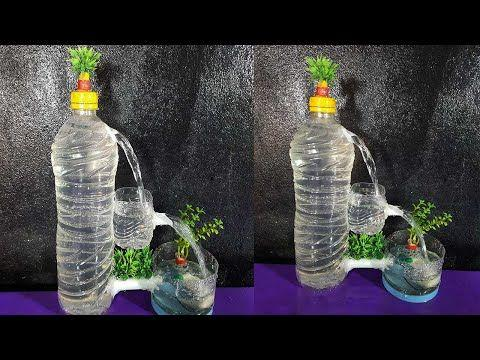HDPE: (69, 90, 99, 110), (308, 94, 338, 112)
PETE: (50, 110, 119, 316), (288, 112, 356, 296), (149, 238, 220, 316), (380, 227, 447, 304), (111, 186, 155, 250), (346, 181, 388, 236)
